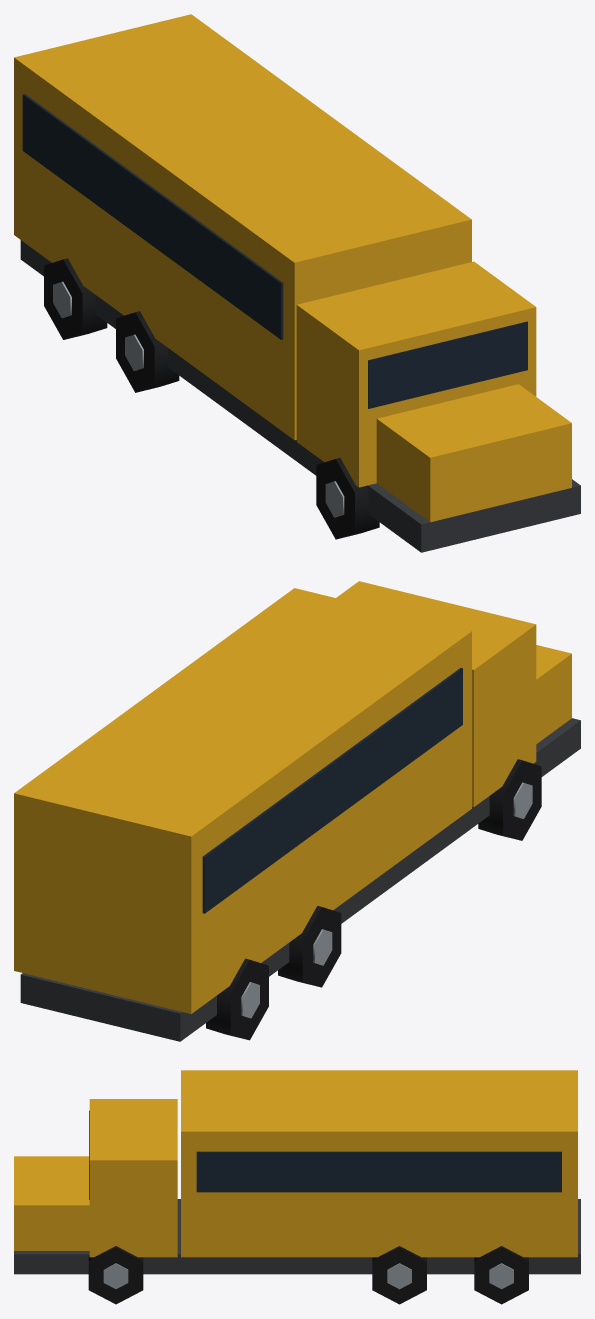
Rendered from veh_ground_bus_a06_lod1.glb.
The picture shows the model from 3 angles, top to bottom: view 1: azimuth 30°, elevation 25°; view 2: azimuth 150°, elevation 25°; view 3: azimuth 270°, elevation 25°; orthographic projection. The views are drawn at different scales.
Parts seen in each view (by area): view 1: body, wheel_4, wheel_2, wheel_0; view 2: body, wheel_2, wheel_4, wheel_0; view 3: body, wheel_5, wheel_1, wheel_3.
Boxes of the visible parts, x1,y1,x2,y2 form: body: (14, 14, 580, 552); wheel_4: (316, 458, 379, 539); wheel_2: (116, 311, 179, 392); wheel_0: (44, 258, 107, 339); body: (14, 581, 580, 1041); wheel_2: (278, 906, 341, 987); wheel_4: (478, 759, 541, 840); wheel_0: (206, 958, 268, 1040); body: (14, 1070, 580, 1274); wheel_5: (88, 1246, 143, 1304); wheel_1: (474, 1246, 528, 1304); wheel_3: (372, 1246, 426, 1304).
Bounding box in the file's own units: 2.46 × 3 × 9.
